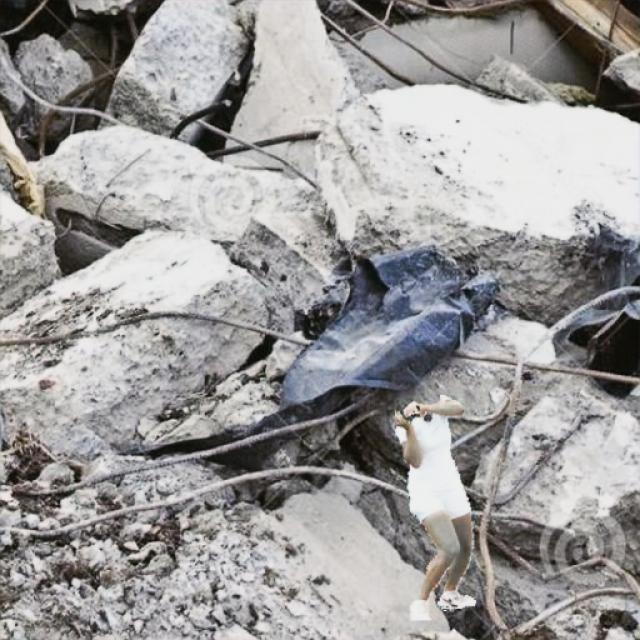Person in Rubble: (395, 395, 475, 619)
